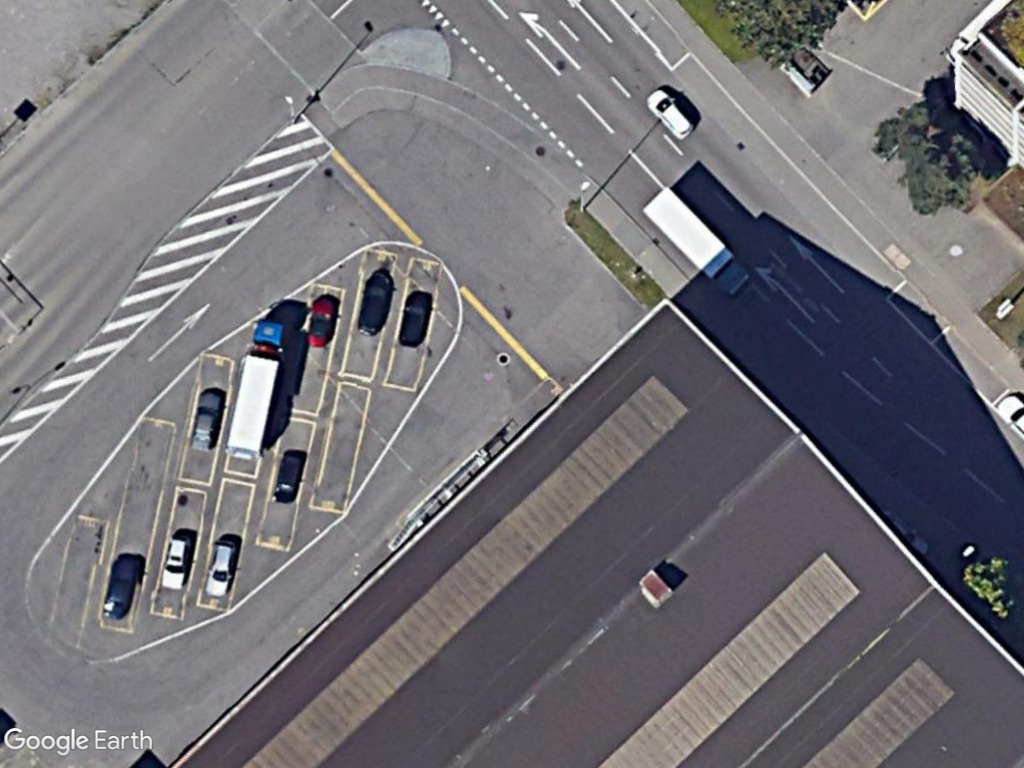car: (643, 86, 694, 141), (189, 384, 226, 453), (203, 534, 240, 601), (158, 532, 193, 592)
truck: (638, 183, 752, 300), (223, 314, 291, 462)
